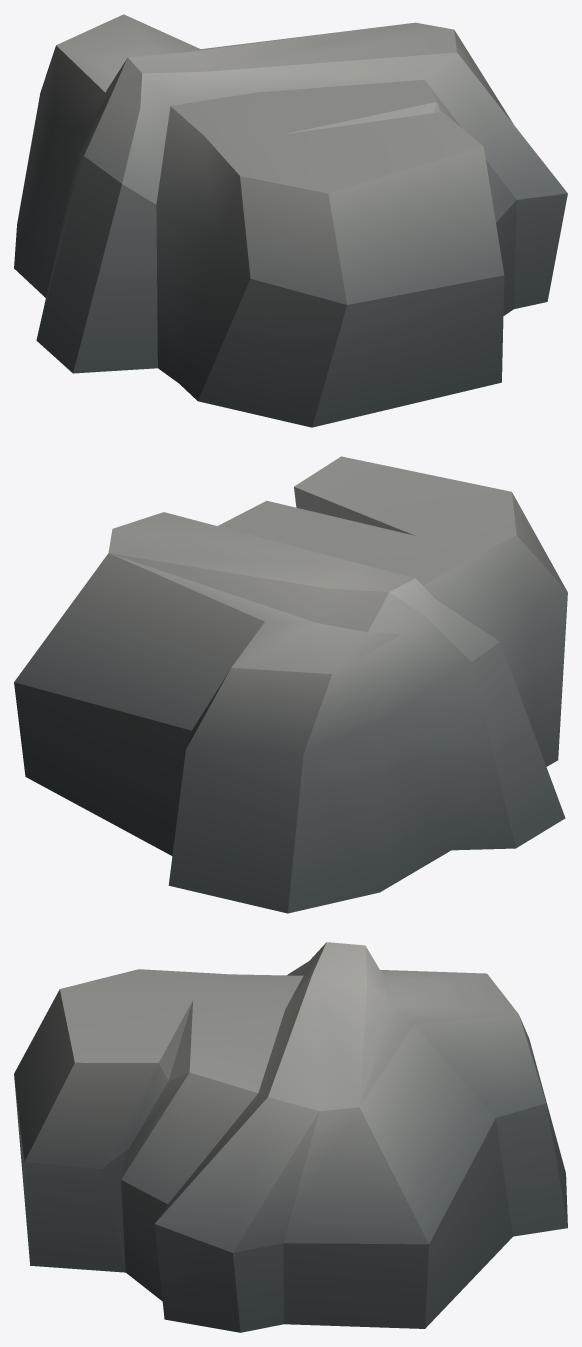
Rendered from Rock_Platform_Small.fbx.
3 renders of one model, top to bottom at view 1: azimuth 30°, elevation 25°; view 2: azimuth 150°, elevation 25°; view 3: azimuth 270°, elevation 25°, orthographic. The views are drawn at different scales.
Visible parts, largest first — view 1: Rock_Platform_Small; view 2: Rock_Platform_Small; view 3: Rock_Platform_Small.
Boxes of the visible parts, x1,y1,x2,y2 form: Rock_Platform_Small: (14,14,567,427); Rock_Platform_Small: (14,456,567,913); Rock_Platform_Small: (14,942,567,1332).
Bounding box in the file's own units: 633 × 690 × 318.
1 material, 1 textured.
